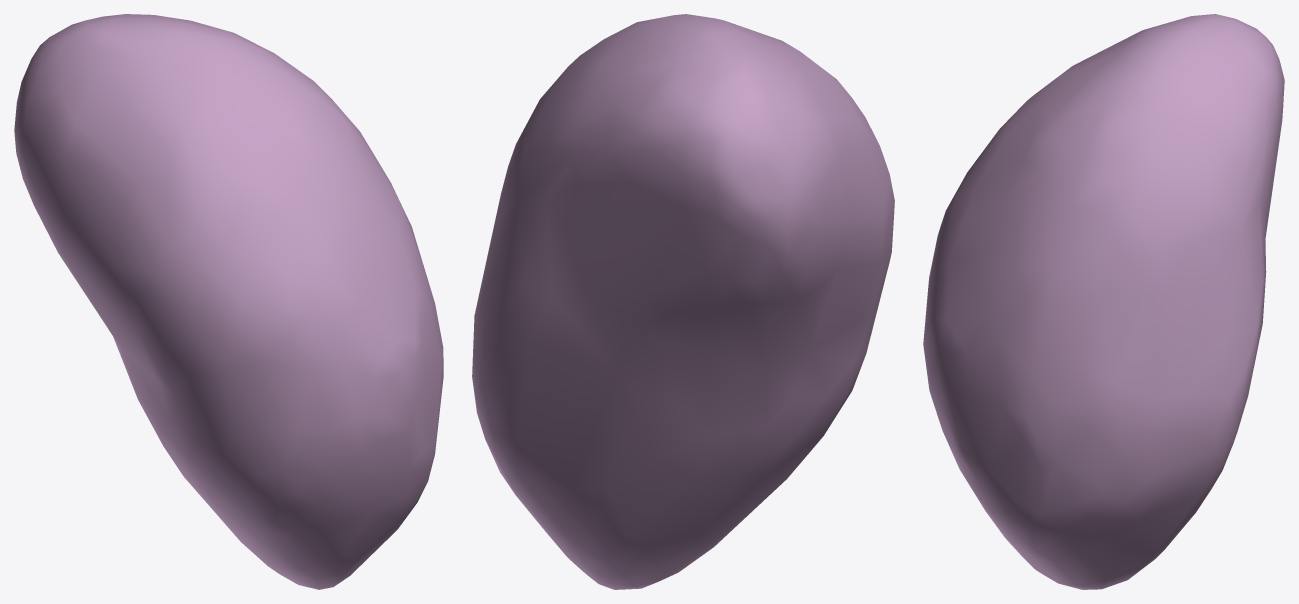
The picture shows the model from 3 angles, left to right: view 1: azimuth 30°, elevation 25°; view 2: azimuth 150°, elevation 25°; view 3: azimuth 270°, elevation 25°; orthographic projection. The views are drawn at different scales.
Parts seen in each view (by area): view 1: 右侧丘脑; view 2: 右侧丘脑; view 3: 右侧丘脑.
Part boxes in pixels (x1,y1,x2,y2): 右侧丘脑: [14, 14, 443, 589]; 右侧丘脑: [472, 14, 894, 589]; 右侧丘脑: [923, 14, 1284, 589].
Size of the model in its own units: 0.0334 by 0.0522 by 0.0337.
